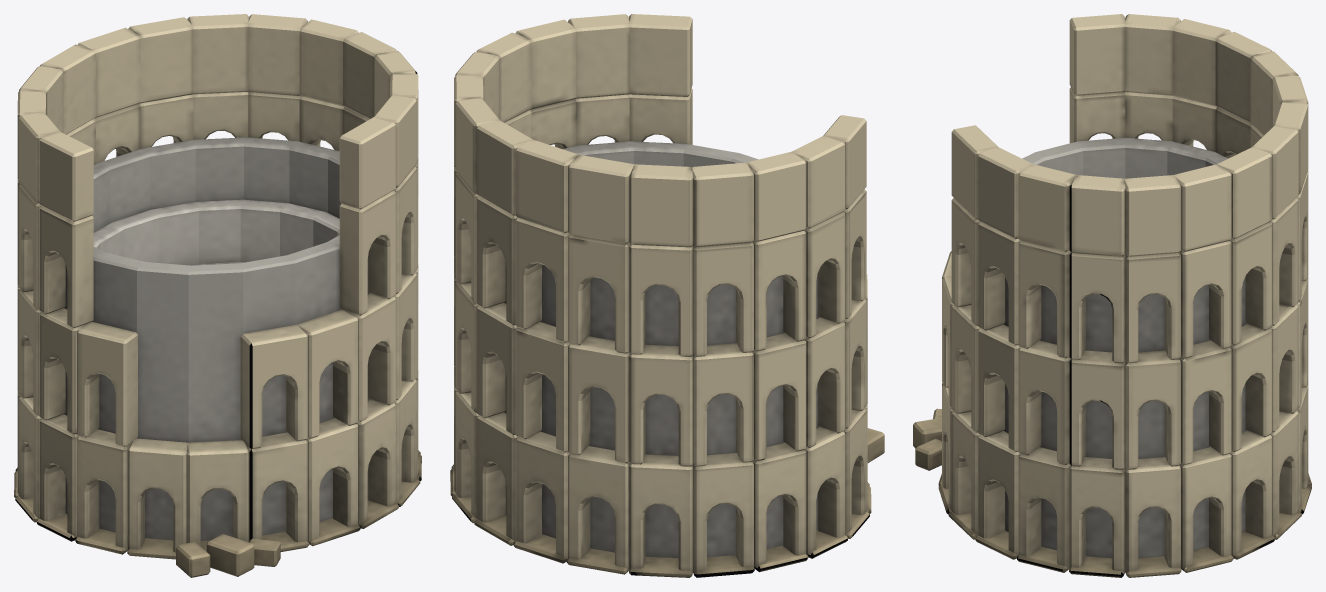
The model's file is koloseum.glb.
3 views of the same model, side by side, from view 1: azimuth 30°, elevation 25°; view 2: azimuth 150°, elevation 25°; view 3: azimuth 270°, elevation 25° (orthographic). The views are drawn at different scales.
Visible parts, largest first — view 1: koloseum; view 2: koloseum; view 3: koloseum.
Part boxes in pixels (box(x1,y1,x2,y2)): koloseum: box(14, 14, 421, 577); koloseum: box(450, 14, 884, 577); koloseum: box(913, 14, 1311, 577).
Bounding box in the file's own units: 1.81 × 1.82 × 1.7.
Materials: 1 (1 with a texture image).
